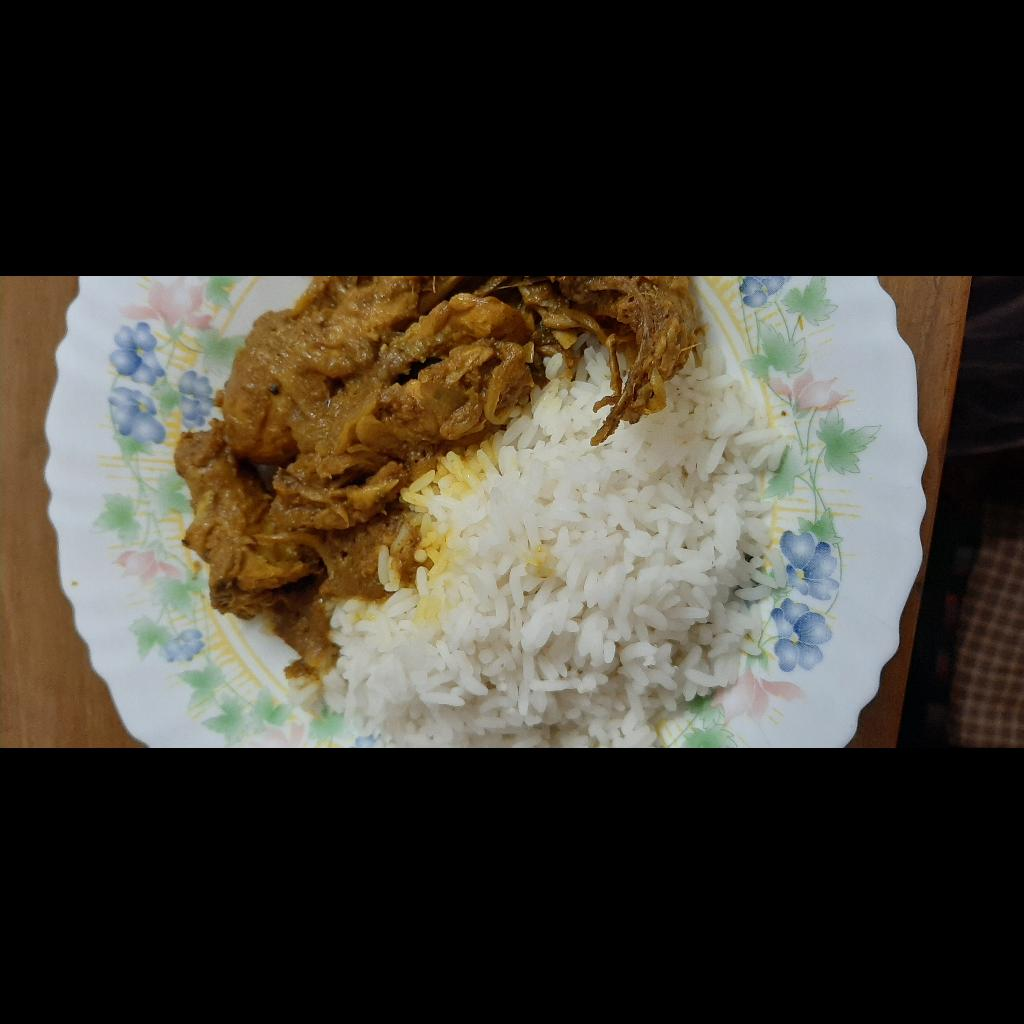beef: (85, 443, 472, 970)
rice: (0, 564, 417, 1024)
